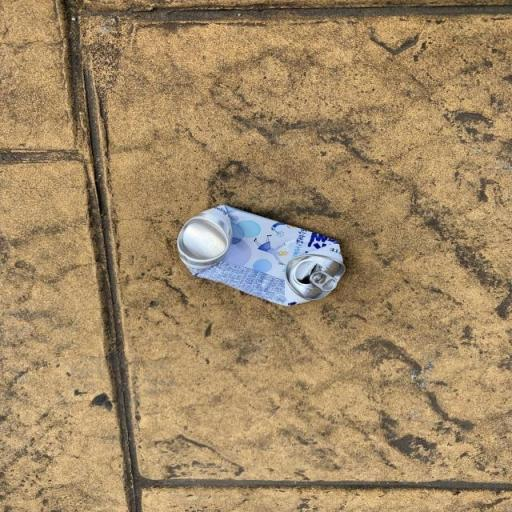metal: (166, 192, 358, 320)
